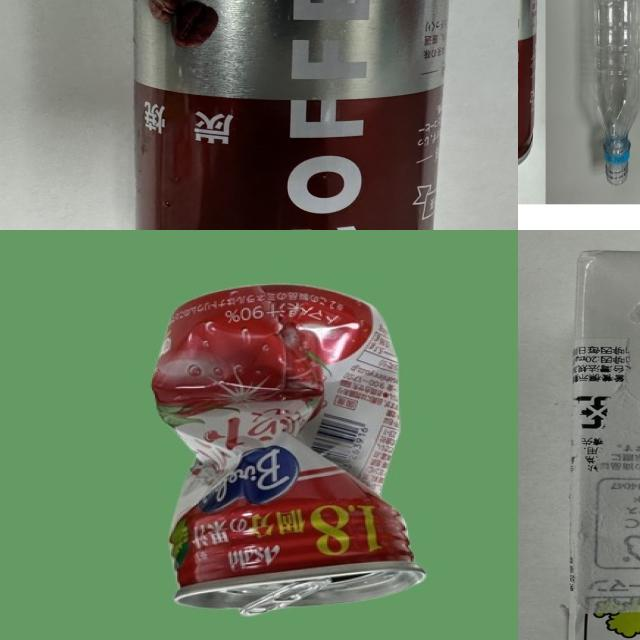Aluminium Foil: (567, 244, 640, 640)
Can: (143, 282, 436, 614), (122, 0, 455, 230)
Transparent Plastic Bottle: (590, 0, 640, 188)
